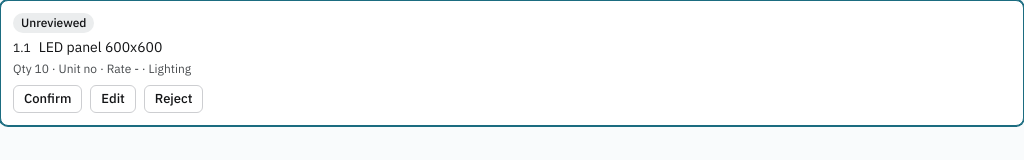
Scenario: review rows › marks a row replaced by a re-run on 404
Click the button "Confirm" at (48, 99), box [13,85,82,113]
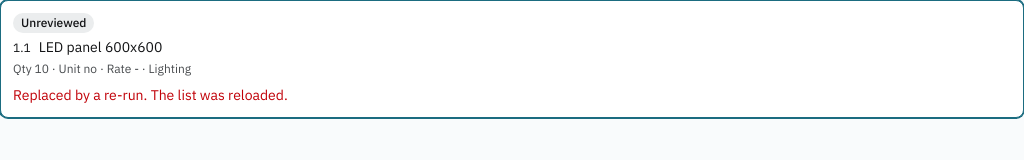
Now the message shows "Replaced by a re-run", box [13,86,288,104]
Now the button "Confirm" is gone
